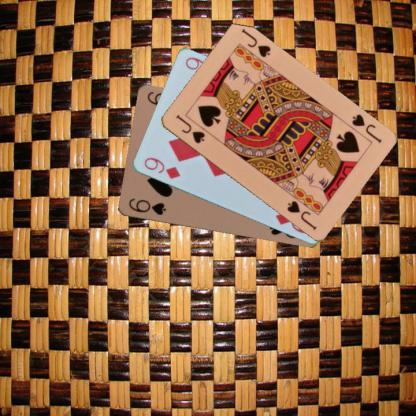6s: (125, 196, 167, 217)
9d: (141, 155, 181, 180)
Js: (348, 111, 383, 144), (173, 112, 206, 145)
